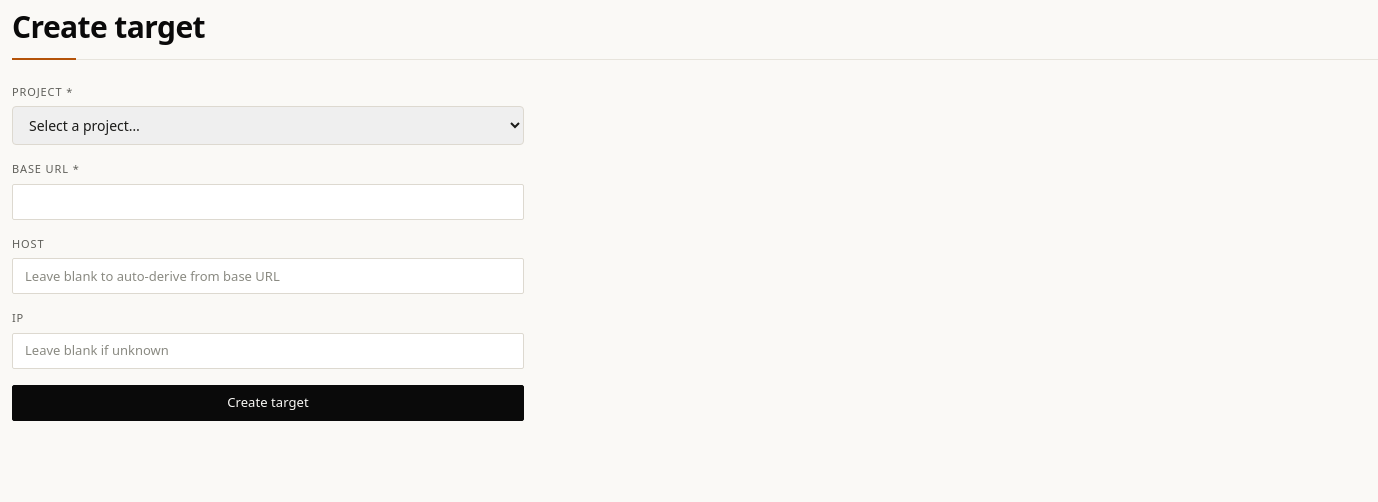
Test: CreateTarget — server errors › renders a non_field_errors banner
Select "Local Lab" in the dropdown labelled "Project *" at (268, 126), box [12,106,524,145]
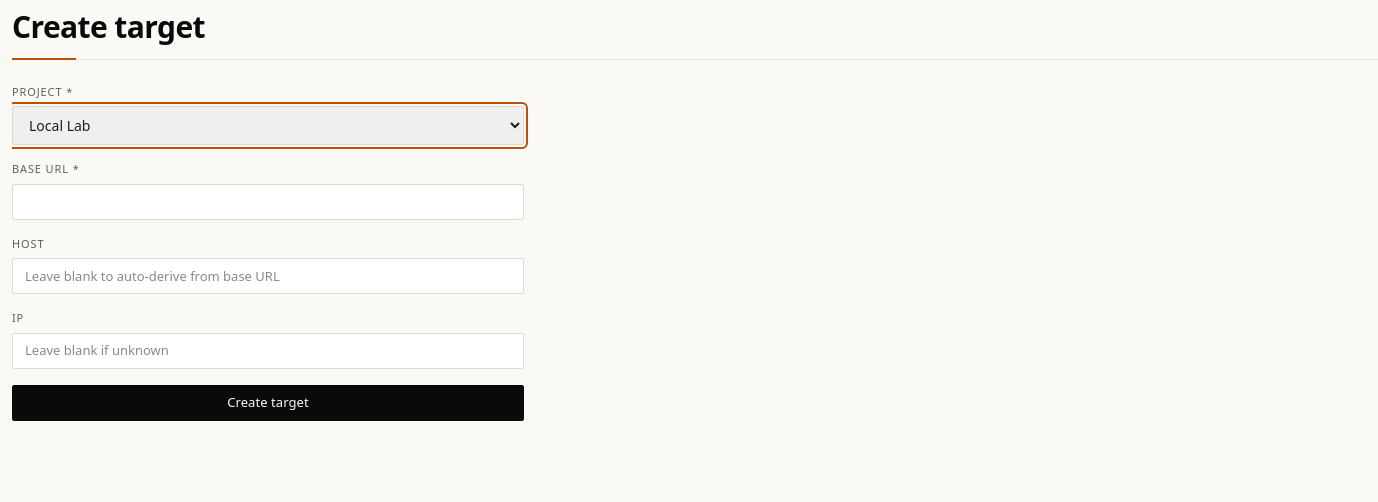
Type "https://dvwa.cocode.dk" into the field labelled "Base URL *" at (268, 202), box [12,184,524,220]
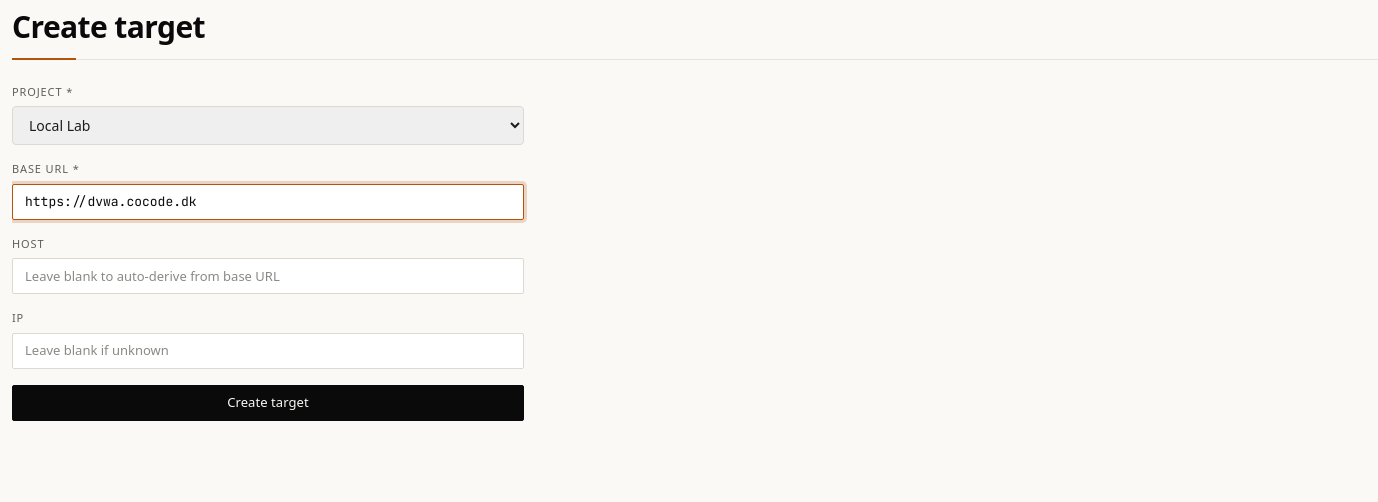
Click the button "Create target" at (268, 402), box [12,384,524,420]
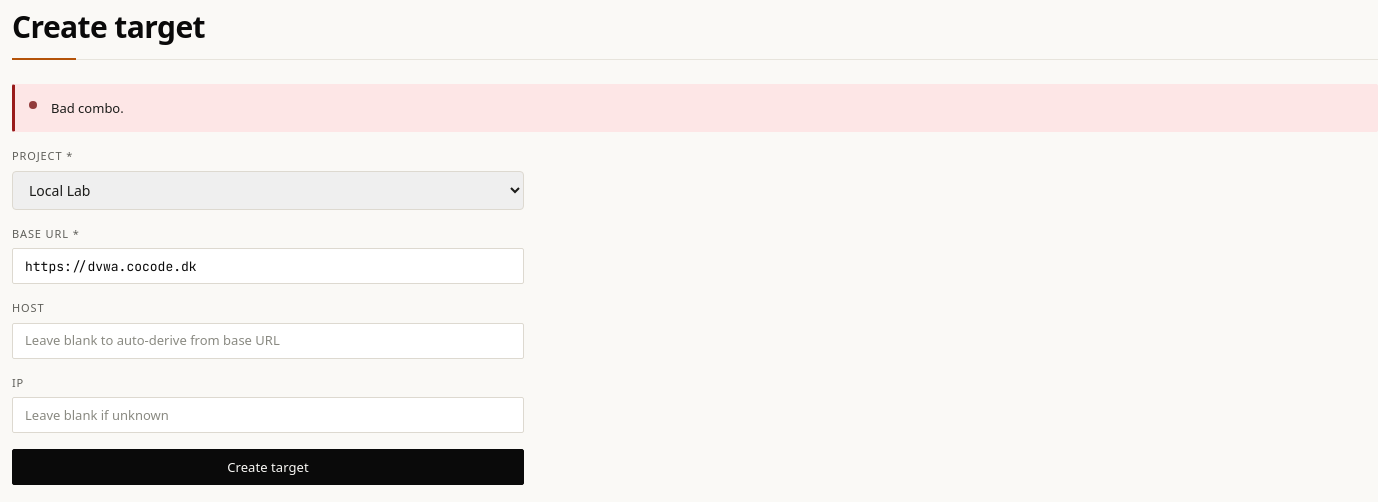
Expected: the text "Bad combo." is shown, [51,98,124,116]
